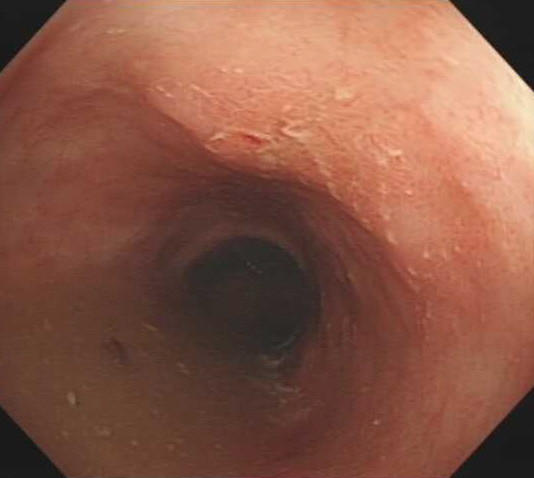adenoma: (148, 75, 368, 184)
